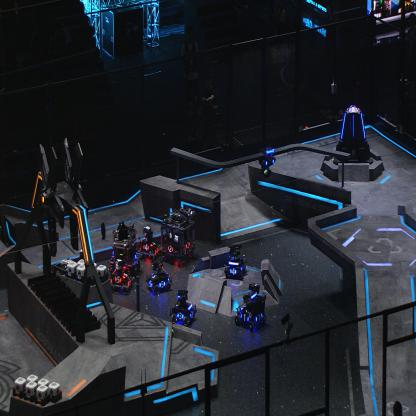car: (159, 206, 196, 264), (234, 281, 267, 332), (110, 221, 143, 271), (169, 287, 197, 327), (144, 256, 171, 295), (110, 257, 136, 295), (138, 224, 162, 262), (224, 243, 248, 281)
